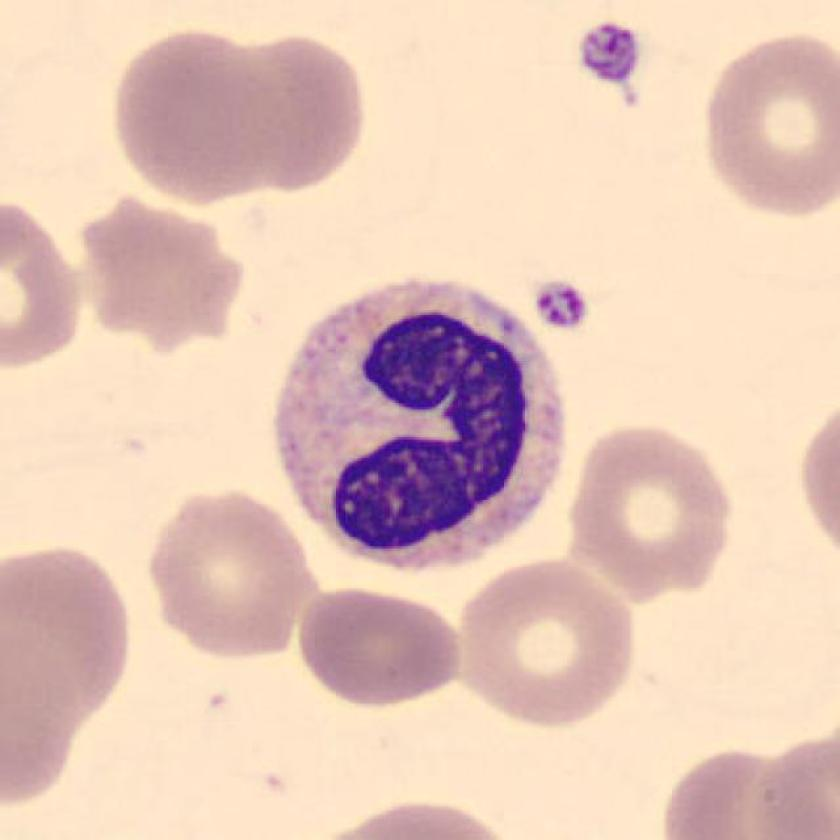neutrophil: (277, 282, 564, 571)
